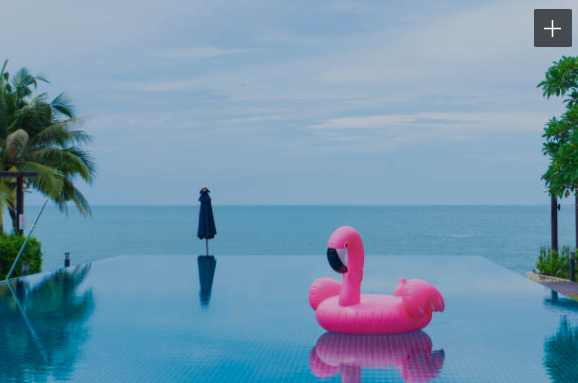Flamingo: (307, 223, 446, 338)
